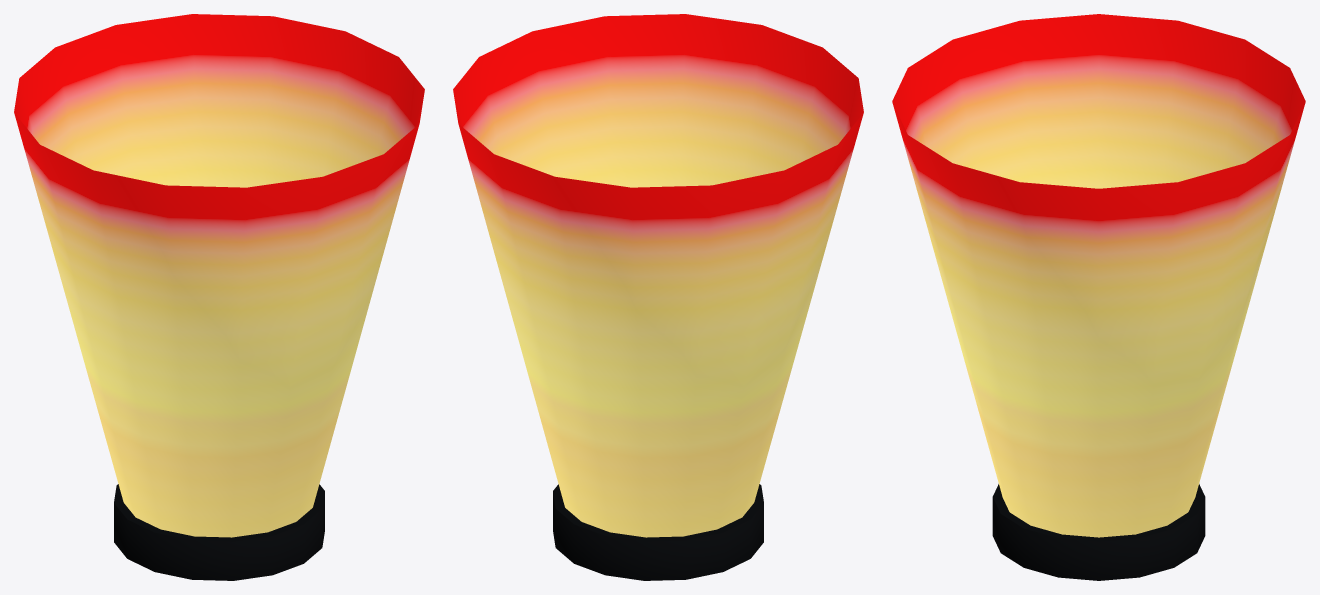
Rendered from groundLight.glb.
3 renders of one model, left to right at view 1: azimuth 30°, elevation 25°; view 2: azimuth 150°, elevation 25°; view 3: azimuth 270°, elevation 25°, orthographic.
Parts seen in each view (by area): view 1: GroundLight; view 2: GroundLight; view 3: GroundLight.
Part boxes in pixels (box(x1,y1,x2,y2)): GroundLight: box(14, 14, 424, 580); GroundLight: box(453, 14, 863, 580); GroundLight: box(892, 14, 1305, 580).
Size of what is drawn, in the model's own units: 0.8097 by 0.9387 by 0.8097.
2 materials, 2 textured.
